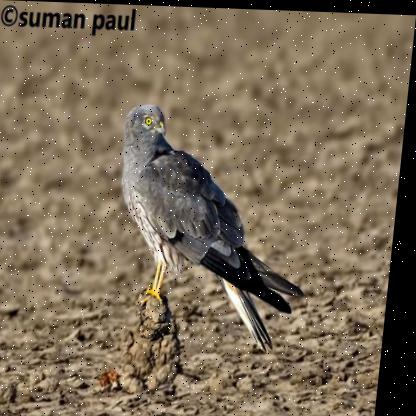Burung: (105, 99, 323, 352)
